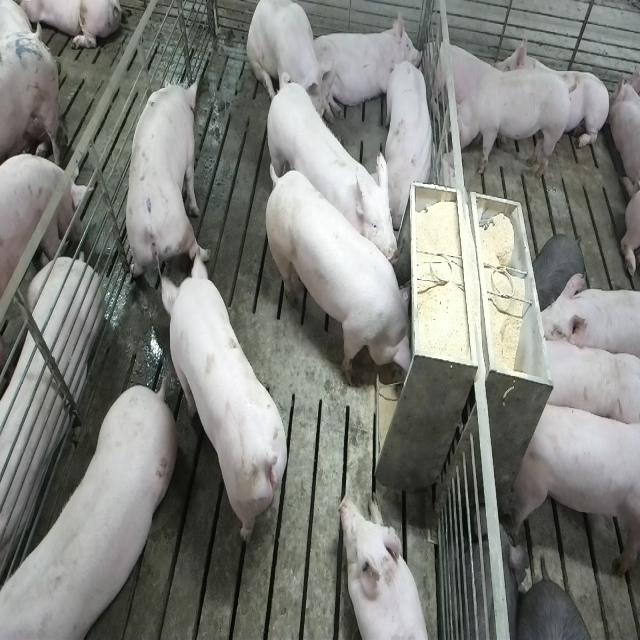Feeding: (269, 164, 422, 389)
Lateral_lying: (0, 149, 101, 590)
Sitting: (246, 1, 332, 132), (383, 59, 436, 220)
Standing: (0, 382, 173, 640), (165, 260, 293, 548), (262, 77, 398, 276), (509, 396, 638, 580), (123, 74, 207, 296), (445, 67, 575, 177), (534, 331, 637, 430), (535, 273, 640, 369)
Sternal_lying: (496, 30, 608, 158), (338, 492, 434, 640), (314, 12, 424, 130), (427, 35, 501, 119)
